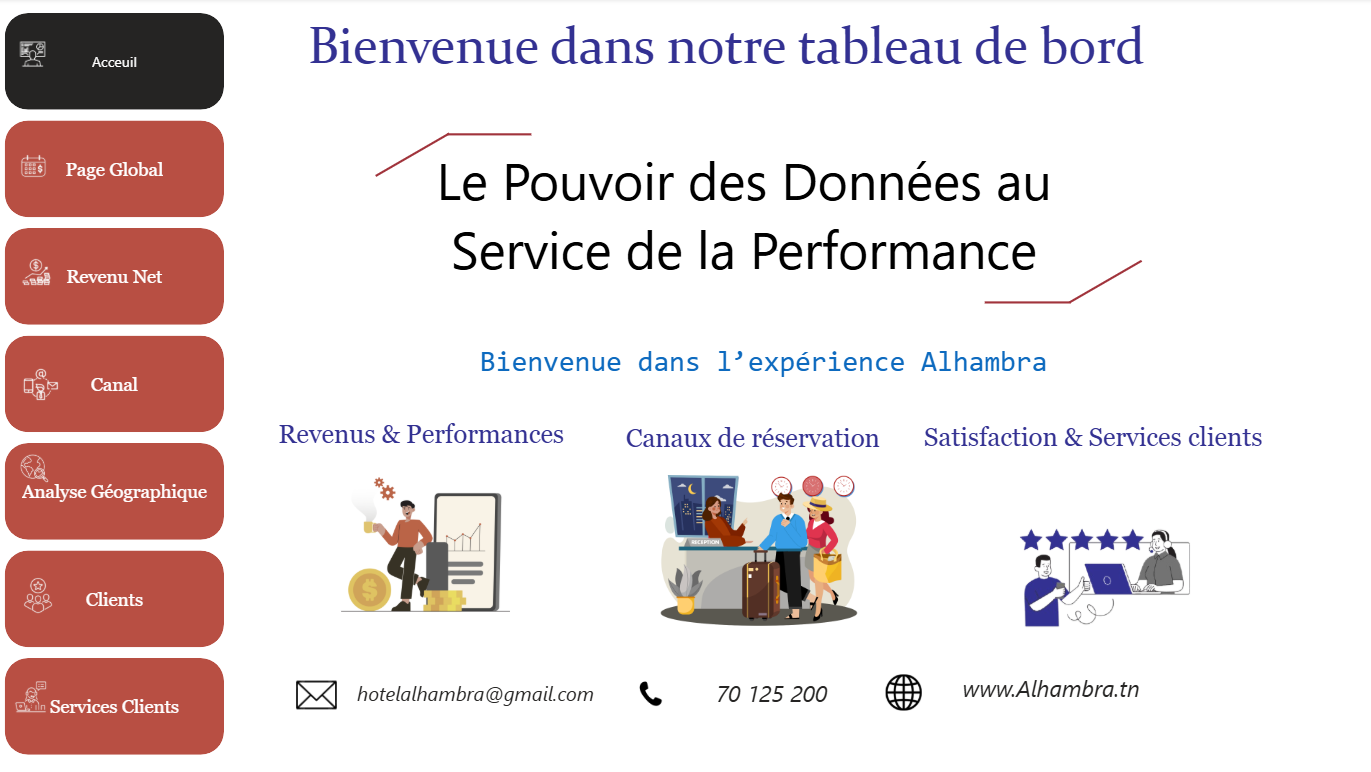

Layout of this report page (visuals, bound fields, positions):
{"tool":"powerbi","page":{"name":"Acceuil","canvas":[1280,720],"ordinal":0},"visuals":[{"type":"textbox","box":[244.3,11,870,74.1],"z":0},{"type":"shape","box":[352.5,122.5,70,47.5],"z":1000},{"type":"shape","box":[419.9,76.8,78.2,100.2],"z":2000},{"type":"shape","box":[919.7,232.3,79.7,101.3],"z":3000},{"type":"shape","box":[998,239,68.9,48.6],"z":4000},{"type":"textbox","box":[324.1,130.8,742.3,156.5],"z":5000},{"type":"image","box":[259.3,626.6,77,43.2],"z":6000},{"type":"image","box":[568.6,623.9,81,45.9],"z":7000},{"type":"textbox","box":[312,611.8,268.7,63.5],"z":8000},{"type":"textbox","box":[609.1,626.6,224.2,43.2],"z":9000},{"type":"image","box":[800.8,623.9,86.4,43.2],"z":10000},{"type":"textbox","box":[894,622.6,307.9,50],"z":11000},{"type":"textbox","box":[244.4,387.6,302.5,43.2],"z":12000},{"type":"textbox","box":[529.4,390.3,349.8,41.9],"z":13000},{"type":"textbox","box":[858.4,390.1,369.3,41.6],"z":14000},{"type":"image","box":[538.8,421.4,348.4,190.4],"z":15000},{"type":"image","box":[259.3,424.1,287.7,172.9],"z":16000},{"type":"textbox","box":[399.9,317.9,627.3,53.8],"z":17000},{"type":"pageNavigator","box":[8.6,13.5,204.2,693.3],"z":18000},{"type":"image","box":[858.4,410.9,338.7,240.9],"z":19000},{"type":"image","box":[8.6,8.6,52.6,88],"z":20000},{"type":"image","box":[8.6,105.2,59.9,116.2],"z":21000},{"type":"image","box":[0,203,74.6,111.3],"z":22000},{"type":"image","box":[9.8,304.5,64.8,110.1],"z":23000},{"type":"image","box":[7.3,385.2,56.3,110.1],"z":24000},{"type":"image","box":[8.6,506.3,64.8,116.2],"z":25000},{"type":"image","box":[0,612.6,64.8,99],"z":26000}]}

Visuals, with their boxes on the page's 1280x720 design canvas (x1, y1, x2, y2). These are canvas units, not pixel positions in the 1371x772 screenshot, which may show the page scaled, cropped or inside an application window:
textbox: [x1=244, y1=11, x2=1114, y2=85]
shape: [x1=352, y1=122, x2=422, y2=170]
shape: [x1=420, y1=77, x2=498, y2=177]
shape: [x1=920, y1=232, x2=999, y2=334]
shape: [x1=998, y1=239, x2=1067, y2=288]
textbox: [x1=324, y1=131, x2=1066, y2=287]
image: [x1=259, y1=627, x2=336, y2=670]
image: [x1=569, y1=624, x2=650, y2=670]
textbox: [x1=312, y1=612, x2=581, y2=675]
textbox: [x1=609, y1=627, x2=833, y2=670]
image: [x1=801, y1=624, x2=887, y2=667]
textbox: [x1=894, y1=623, x2=1202, y2=673]
textbox: [x1=244, y1=388, x2=547, y2=431]
textbox: [x1=529, y1=390, x2=879, y2=432]
textbox: [x1=858, y1=390, x2=1228, y2=432]
image: [x1=539, y1=421, x2=887, y2=612]
image: [x1=259, y1=424, x2=547, y2=597]
textbox: [x1=400, y1=318, x2=1027, y2=372]
pageNavigator: [x1=9, y1=14, x2=213, y2=707]
image: [x1=858, y1=411, x2=1197, y2=652]
image: [x1=9, y1=9, x2=61, y2=97]
image: [x1=9, y1=105, x2=68, y2=221]
image: [x1=0, y1=203, x2=75, y2=314]
image: [x1=10, y1=304, x2=75, y2=415]
image: [x1=7, y1=385, x2=64, y2=495]
image: [x1=9, y1=506, x2=73, y2=622]
image: [x1=0, y1=613, x2=65, y2=712]
